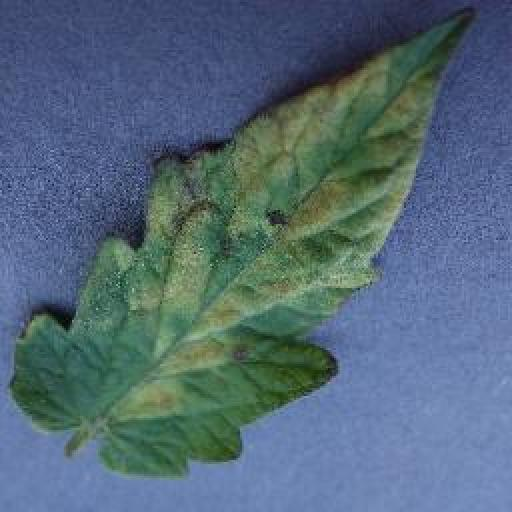disease_tomato: (11, 5, 476, 475)
